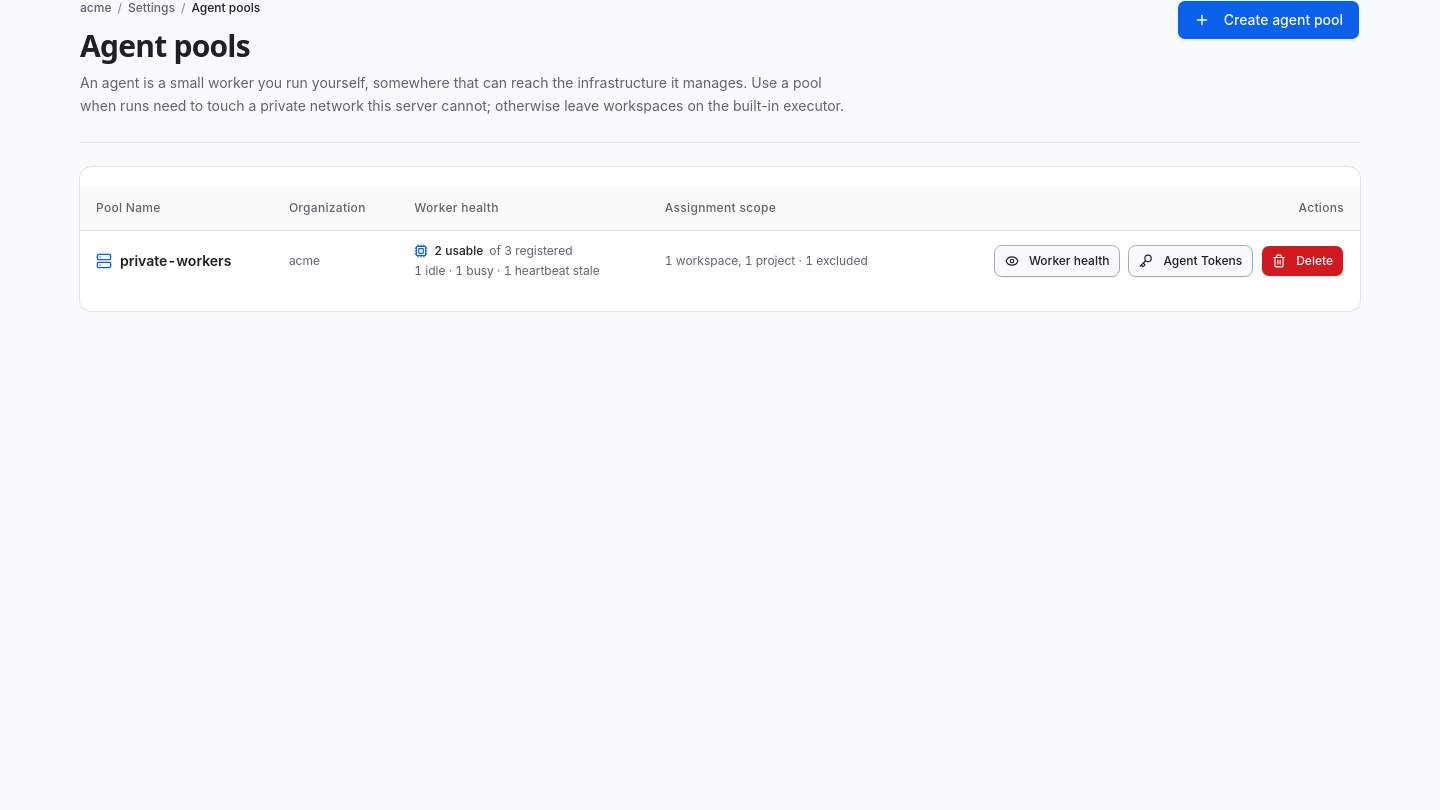
Scenario: explains pool capacity, scope, and worker health from server records
The width and height of the screenshot is (1440, 810).
expect the text "2 usable" is shown: met, box [434,243,483,259]
expect the text "1 idle · 1 busy · 1 heartbeat stale" is shown: met, box [414,263,600,278]
Click the button "Worker health" at (1057, 261), box [994,245,1120,277]
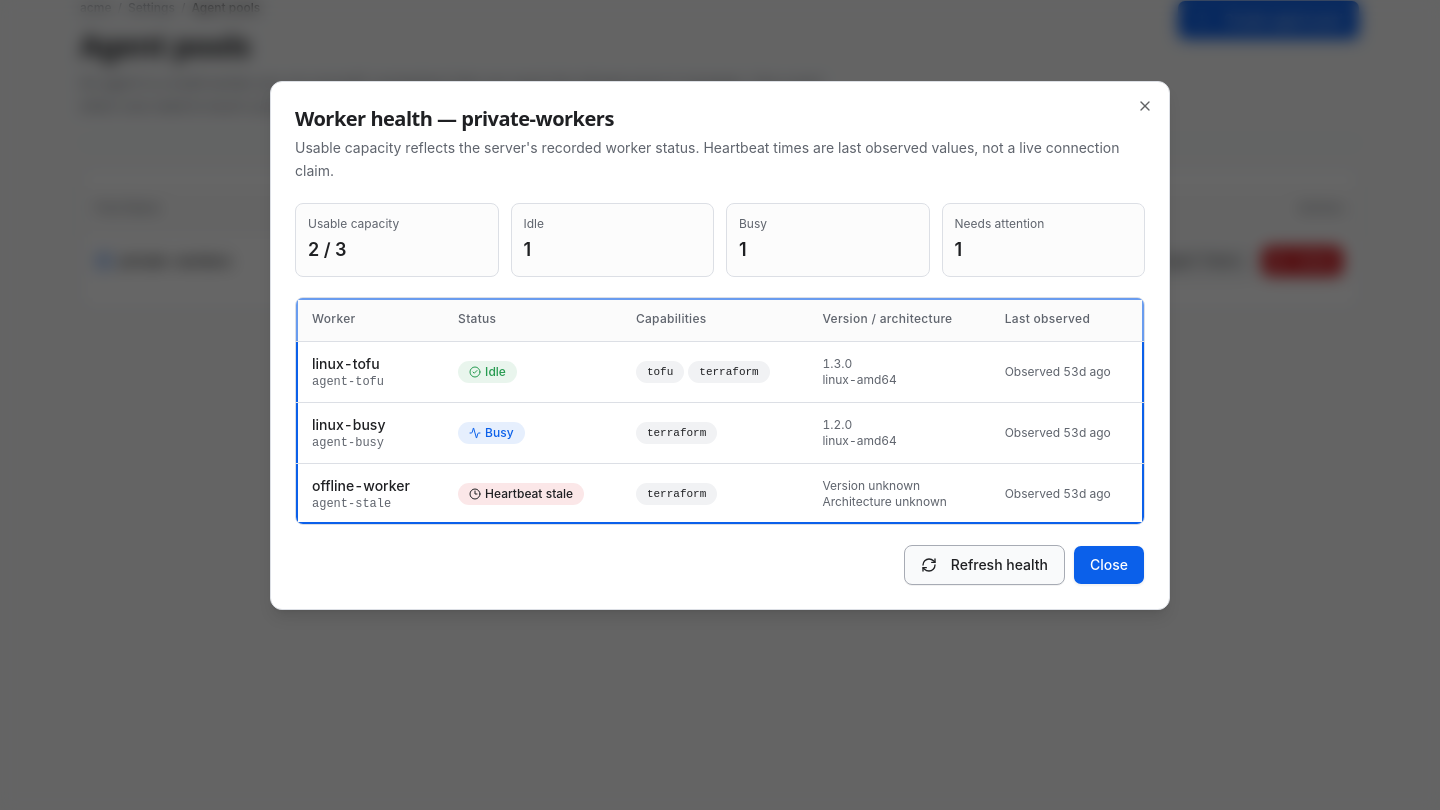
expect the heading "Worker health — private-workers" is shown: met, box [295,105,614,132]
expect the text "linux-tofu" is shown: met, box [312,355,380,372]
expect the text "Heartbeat stale" is shown: met, box [458,483,584,505]
